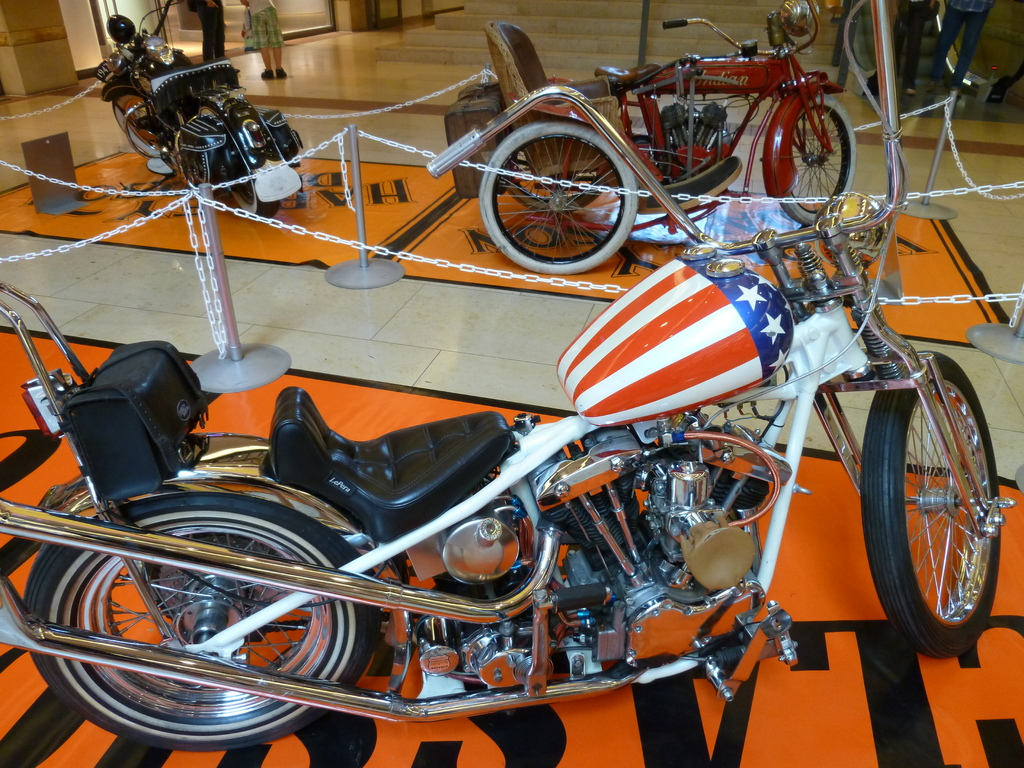Wheel: (26, 492, 378, 755), (863, 349, 1009, 660), (478, 120, 641, 276), (781, 94, 860, 229), (218, 132, 280, 216), (108, 90, 169, 158)
